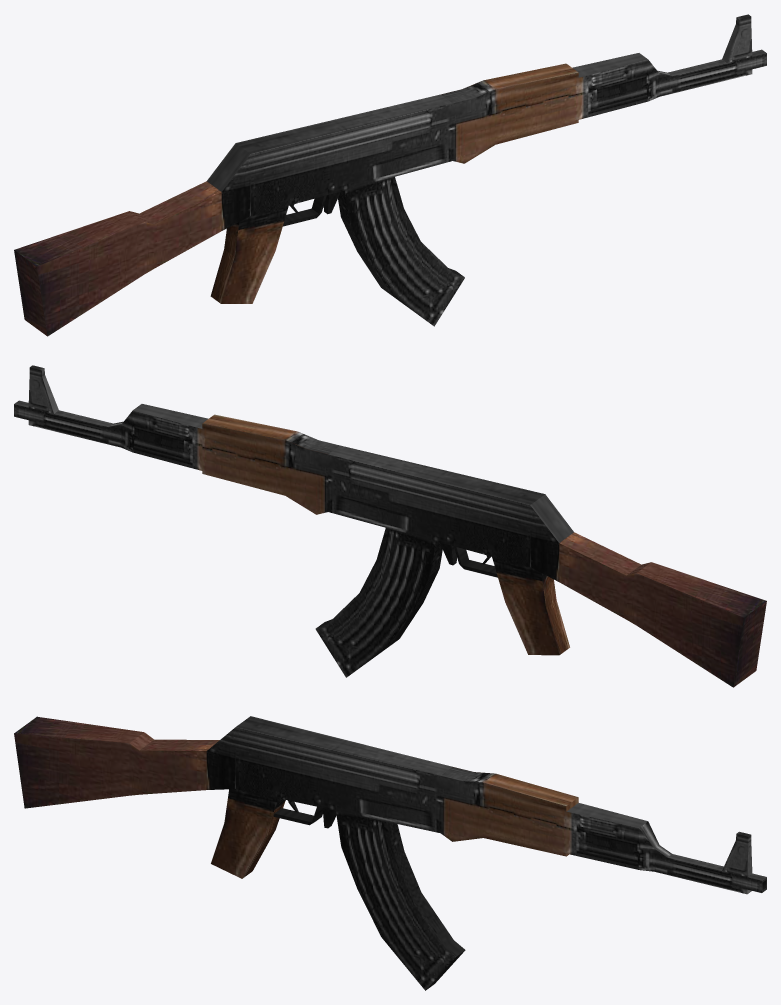
Rendered from Assault_Rifle.fbx.
3 views of the same model, one above another, from view 1: azimuth 30°, elevation 25°; view 2: azimuth 150°, elevation 25°; view 3: azimuth 330°, elevation 25° (orthographic).
Visible parts, largest first — view 1: Assault_Rifle, Magazine; view 2: Assault_Rifle, Magazine; view 3: Assault_Rifle, Magazine.
Part boxes in pixels (x1,y1,x2,y2): Assault_Rifle: (14,14,766,336); Magazine: (338,177,464,326); Assault_Rifle: (14,365,766,687); Magazine: (315,528,442,677); Assault_Rifle: (14,716,766,894); Magazine: (336,811,465,990).
Bounding box in the file's own units: 91.97 × 27.35 × 4.95.
